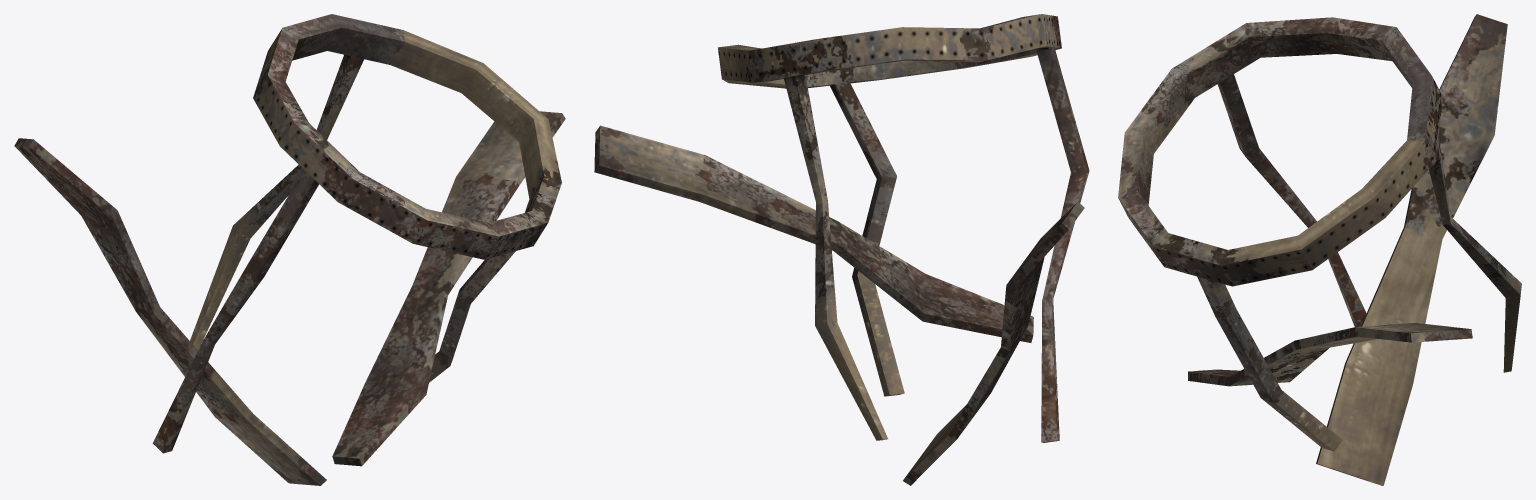
The model's file is rubble_parts_1x1.dae.
3 views of the same model, side by side, from view 1: azimuth 30°, elevation 25°; view 2: azimuth 150°, elevation 25°; view 3: azimuth 270°, elevation 25° (orthographic). The views are drawn at different scales.
Parts seen in each view (by area): view 1: rubble_parts_1x1; view 2: rubble_parts_1x1; view 3: rubble_parts_1x1.
Boxes of the visible parts, x1=… form: rubble_parts_1x1: x1=14, y1=14, x2=565, y2=485; rubble_parts_1x1: x1=594, y1=14, x2=1089, y2=485; rubble_parts_1x1: x1=1118, y1=14, x2=1521, y2=485.
Size of the model in its own units: 4.79 by 3.25 by 4.08.
1 material, 1 textured.
